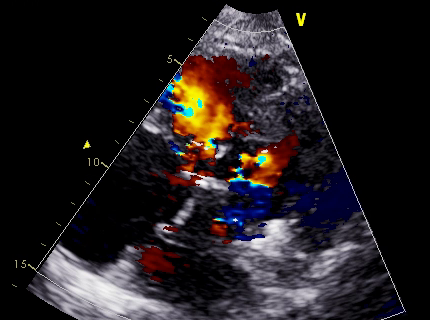TR: (161, 100, 226, 175)
